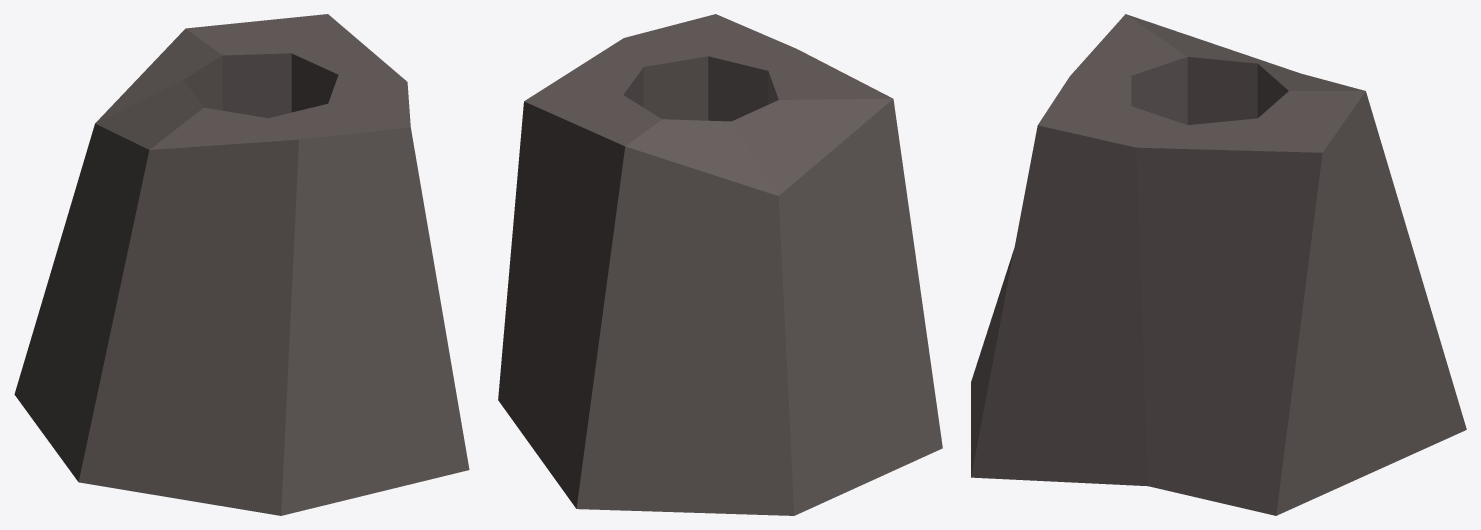
Rendered from Shed Stand stone.fbx.
The picture shows the model from 3 angles, left to right: view 1: azimuth 30°, elevation 25°; view 2: azimuth 150°, elevation 25°; view 3: azimuth 270°, elevation 25°; orthographic projection. The views are drawn at different scales.
Visible parts, largest first — view 1: Shed Stand stone; view 2: Shed Stand stone; view 3: Shed Stand stone.
Part boxes in pixels (x1,y1,x2,y2): Shed Stand stone: (14, 14, 469, 515); Shed Stand stone: (498, 14, 942, 515); Shed Stand stone: (971, 14, 1466, 515).
Bounding box in the file's own units: 58.24 × 47.51 × 63.02.
